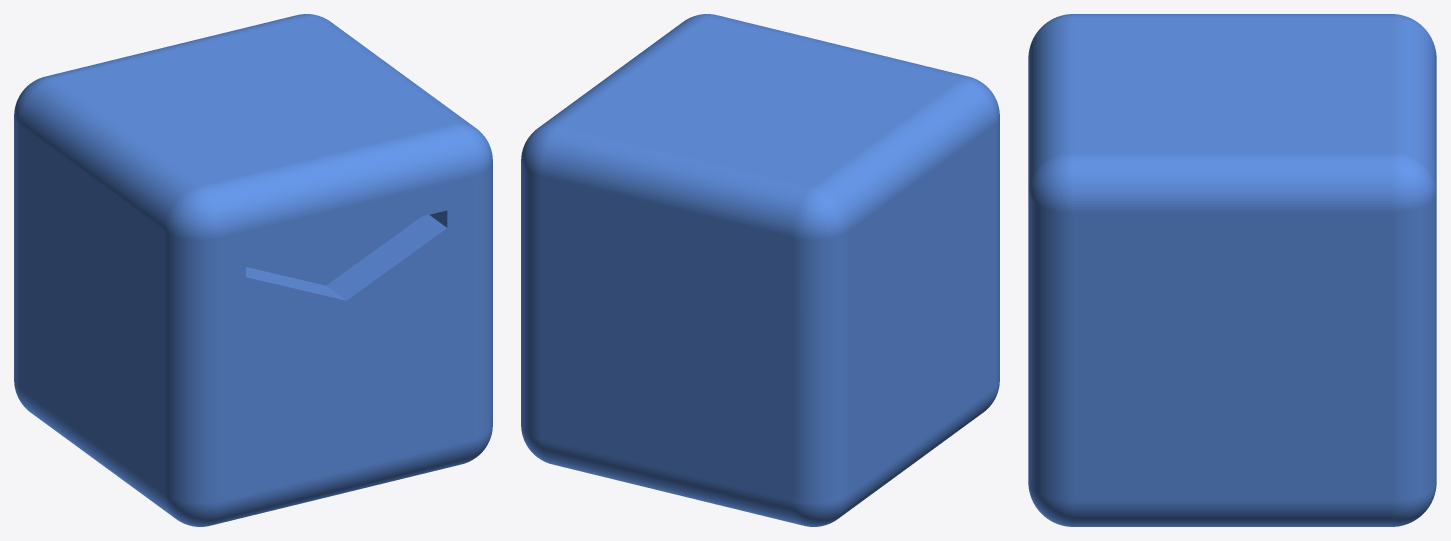
File: Cube_Break_4.gltf
3 views of the same model, side by side, from view 1: azimuth 30°, elevation 25°; view 2: azimuth 150°, elevation 25°; view 3: azimuth 270°, elevation 25° (orthographic). The views are drawn at different scales.
Visible parts, largest first — view 1: Beat_Saber_block.1-Mat.1_fracturepart4, Beat_Saber_block.1-Mat.1_fracturepart8, Beat_Saber_block.1-Mat.1_fracturepart5, Beat_Saber_block.1-Mat.1_fracturepart9, Beat_Saber_block.1-Mat.1_fracturepart6, Beat_Saber_block.1-Mat.1_fracturepart1, Beat_Saber_block.1-Mat.1_fracturepart2, Beat_Saber_block.1-Mat.1_fracturepart3, Beat_Saber_block.1-Mat.1_fracturepart10; view 2: Beat_Saber_block.1-Mat.1_fracturepart2, Beat_Saber_block.1-Mat.1_fracturepart7, Beat_Saber_block.1-Mat.1_fracturepart10, Beat_Saber_block.1-Mat.1_fracturepart4, Beat_Saber_block.1-Mat.1_fracturepart9, Beat_Saber_block.1-Mat.1_fracturepart3, Beat_Saber_block.1-Mat.1_fracturepart1, Beat_Saber_block.1-Mat.1_fracturepart6; view 3: Beat_Saber_block.1-Mat.1_fracturepart3, Beat_Saber_block.1-Mat.1_fracturepart7, Beat_Saber_block.1-Mat.1_fracturepart2, Beat_Saber_block.1-Mat.1_fracturepart8, Beat_Saber_block.1-Mat.1_fracturepart9, Beat_Saber_block.1-Mat.1_fracturepart5, Beat_Saber_block.1-Mat.1_fracturepart6.
Boxes of the visible parts, x1,y1,x2,y2 form: Beat_Saber_block.1-Mat.1_fracturepart4: (38, 108, 307, 443); Beat_Saber_block.1-Mat.1_fracturepart8: (290, 132, 492, 389); Beat_Saber_block.1-Mat.1_fracturepart5: (212, 348, 492, 522); Beat_Saber_block.1-Mat.1_fracturepart9: (77, 96, 429, 265); Beat_Saber_block.1-Mat.1_fracturepart6: (120, 149, 305, 311); Beat_Saber_block.1-Mat.1_fracturepart1: (28, 331, 221, 526); Beat_Saber_block.1-Mat.1_fracturepart2: (14, 14, 335, 161); Beat_Saber_block.1-Mat.1_fracturepart3: (217, 24, 492, 167); Beat_Saber_block.1-Mat.1_fracturepart10: (14, 154, 98, 412); Beat_Saber_block.1-Mat.1_fracturepart2: (521, 114, 870, 329); Beat_Saber_block.1-Mat.1_fracturepart7: (521, 302, 801, 524); Beat_Saber_block.1-Mat.1_fracturepart10: (725, 234, 927, 526); Beat_Saber_block.1-Mat.1_fracturepart4: (858, 126, 999, 321); Beat_Saber_block.1-Mat.1_fracturepart9: (735, 22, 914, 165); Beat_Saber_block.1-Mat.1_fracturepart3: (547, 14, 766, 121); Beat_Saber_block.1-Mat.1_fracturepart1: (843, 315, 999, 514); Beat_Saber_block.1-Mat.1_fracturepart6: (891, 57, 999, 180); Beat_Saber_block.1-Mat.1_fracturepart3: (1040, 74, 1379, 420); Beat_Saber_block.1-Mat.1_fracturepart7: (1186, 346, 1436, 526); Beat_Saber_block.1-Mat.1_fracturepart2: (1265, 14, 1436, 362); Beat_Saber_block.1-Mat.1_fracturepart8: (1028, 139, 1196, 436); Beat_Saber_block.1-Mat.1_fracturepart9: (1028, 14, 1318, 149); Beat_Saber_block.1-Mat.1_fracturepart5: (1028, 393, 1209, 526); Beat_Saber_block.1-Mat.1_fracturepart6: (1028, 14, 1196, 100).
Size of the model in its own units: 10 by 10.05 by 10.
